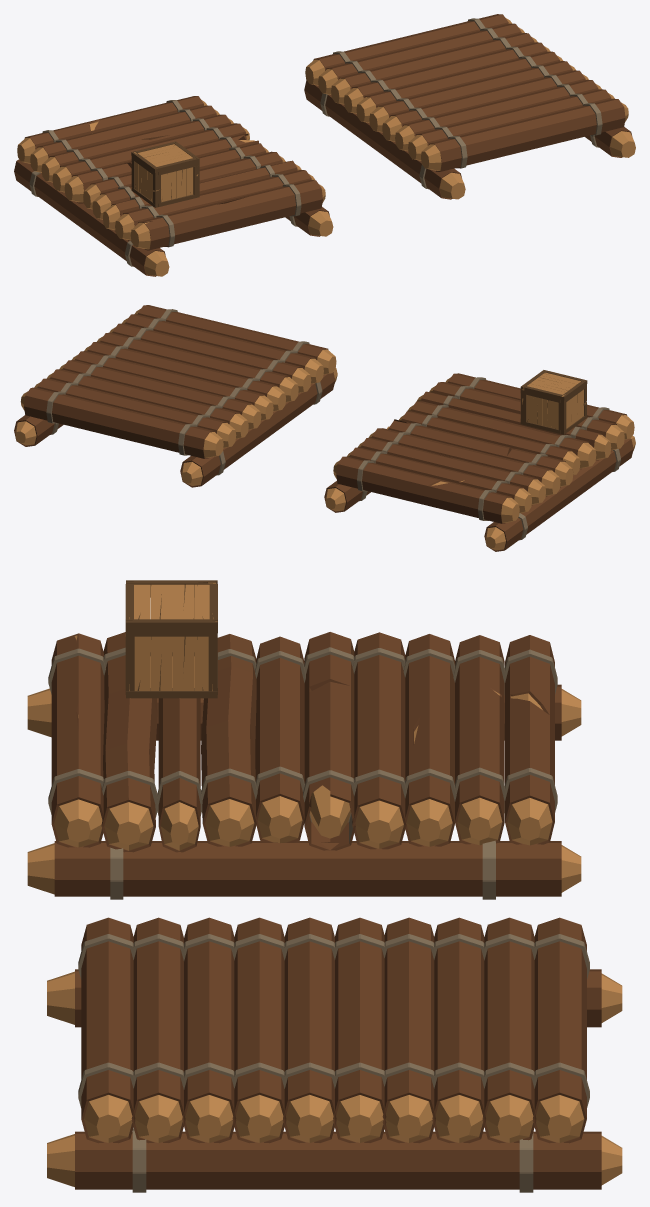
File: Raft.fbx
3 renders of one model, top to bottom at view 1: azimuth 30°, elevation 25°; view 2: azimuth 150°, elevation 25°; view 3: azimuth 270°, elevation 25°, orthographic. The views are drawn at different scales.
Parts seen in each view (by area): view 1: Raft2, Raft1, WoodenCrate.002, WoodenCrateLid2.002; view 2: Raft2, Raft1, WoodenCrate.002, WoodenCrateLid2.002; view 3: Raft2, Raft1, WoodenCrate.002, WoodenCrateLid2.002.
Part boxes in pixels (left/top/right/bottom): Raft2: left=304, top=14, right=635, bottom=199; Raft1: left=14, top=96, right=333, bottom=276; WoodenCrate.002: left=131, top=156, right=199, bottom=207; WoodenCrateLid2.002: left=131, top=141, right=199, bottom=172; Raft2: left=14, top=305, right=337, bottom=487; Raft1: left=324, top=373, right=635, bottom=551; WoodenCrate.002: left=520, top=384, right=586, bottom=434; WoodenCrateLid2.002: left=520, top=370, right=587, bottom=400; Raft2: left=47, top=917, right=622, bottom=1192; Raft1: left=27, top=632, right=581, bottom=899; WoodenCrate.002: left=125, top=591, right=217, bottom=698; WoodenCrateLid2.002: left=125, top=580, right=217, bottom=629.
Size of the model in its own units: 72.63 by 12.58 by 38.16.
